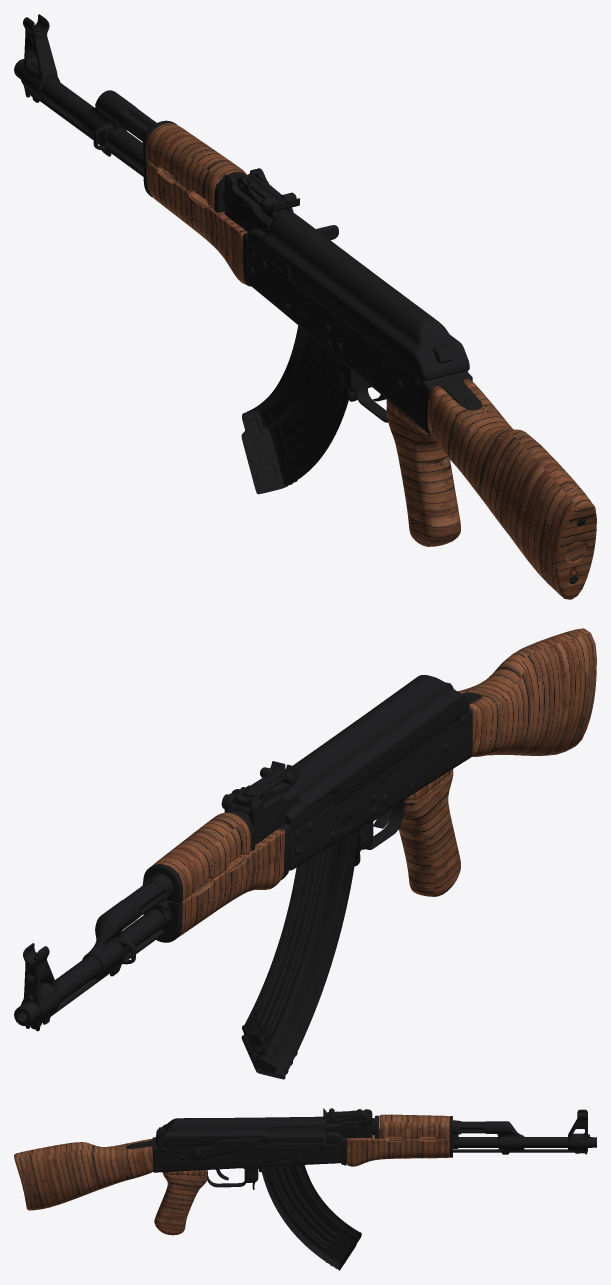
3 views of the same model, one above another, from view 1: azimuth 30°, elevation 25°; view 2: azimuth 150°, elevation 25°; view 3: azimuth 270°, elevation 25° (orthographic). The views are drawn at different scales.
Visible parts, largest first — view 1: w_ak47; view 2: w_ak47; view 3: w_ak47.
Boxes of the visible parts, x1,y1,x2,y2 form: w_ak47: [14, 14, 596, 599]; w_ak47: [14, 628, 596, 1079]; w_ak47: [14, 1108, 596, 1270].
Bounding box in the file's own units: 0.0706 × 0.2603 × 0.88.
2 materials, 2 textured.
